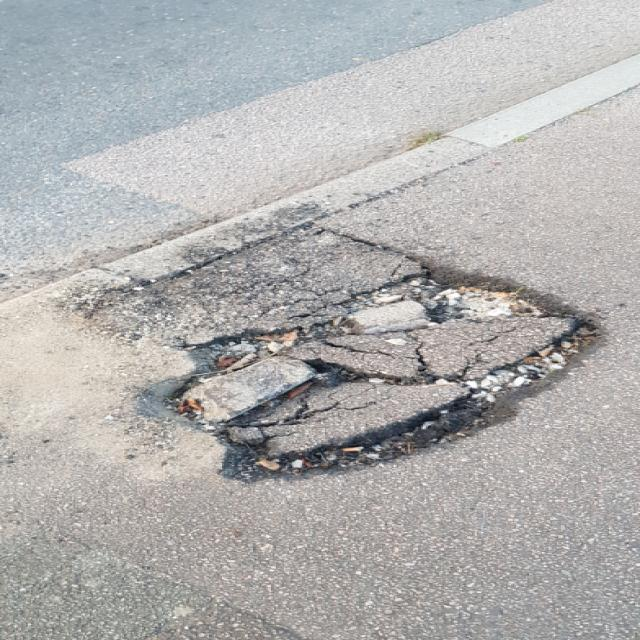Pothole: (65, 220, 611, 489)
